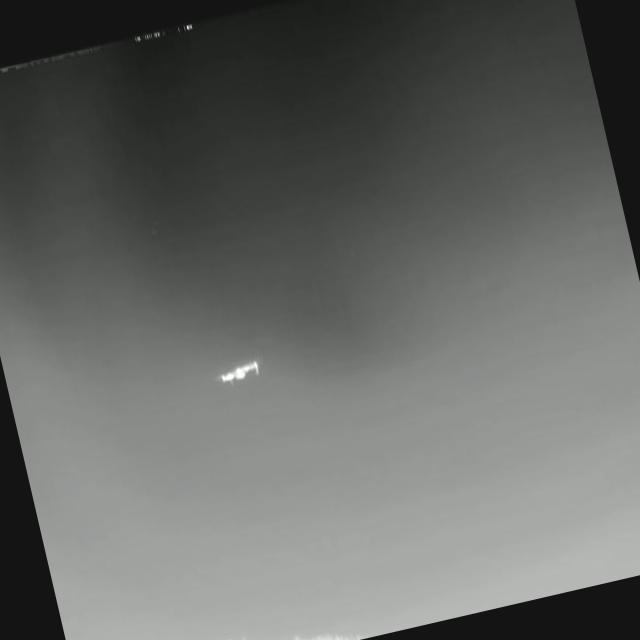DRONE: (208, 349, 273, 396)
